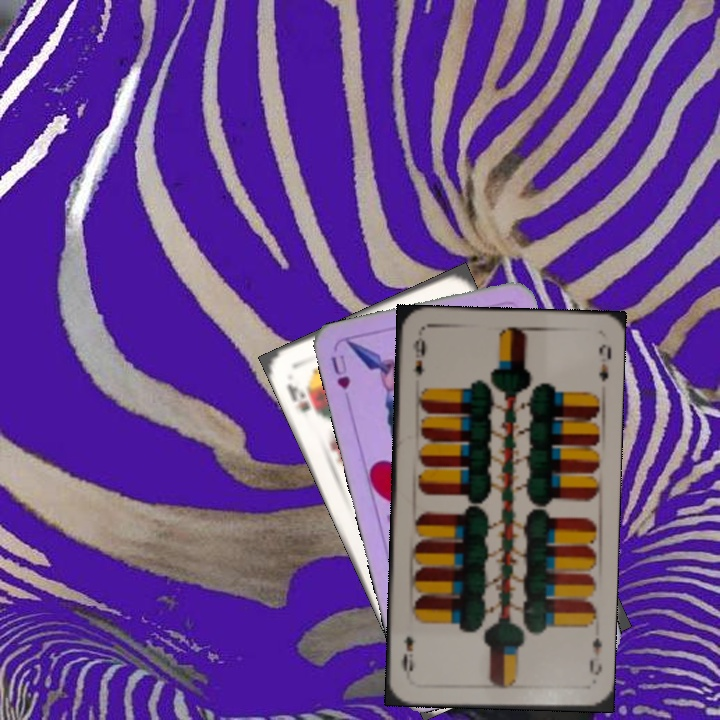E9: (585, 633, 605, 678), (409, 334, 428, 378)
HU: (326, 351, 353, 393)
SK: (283, 379, 313, 415)
